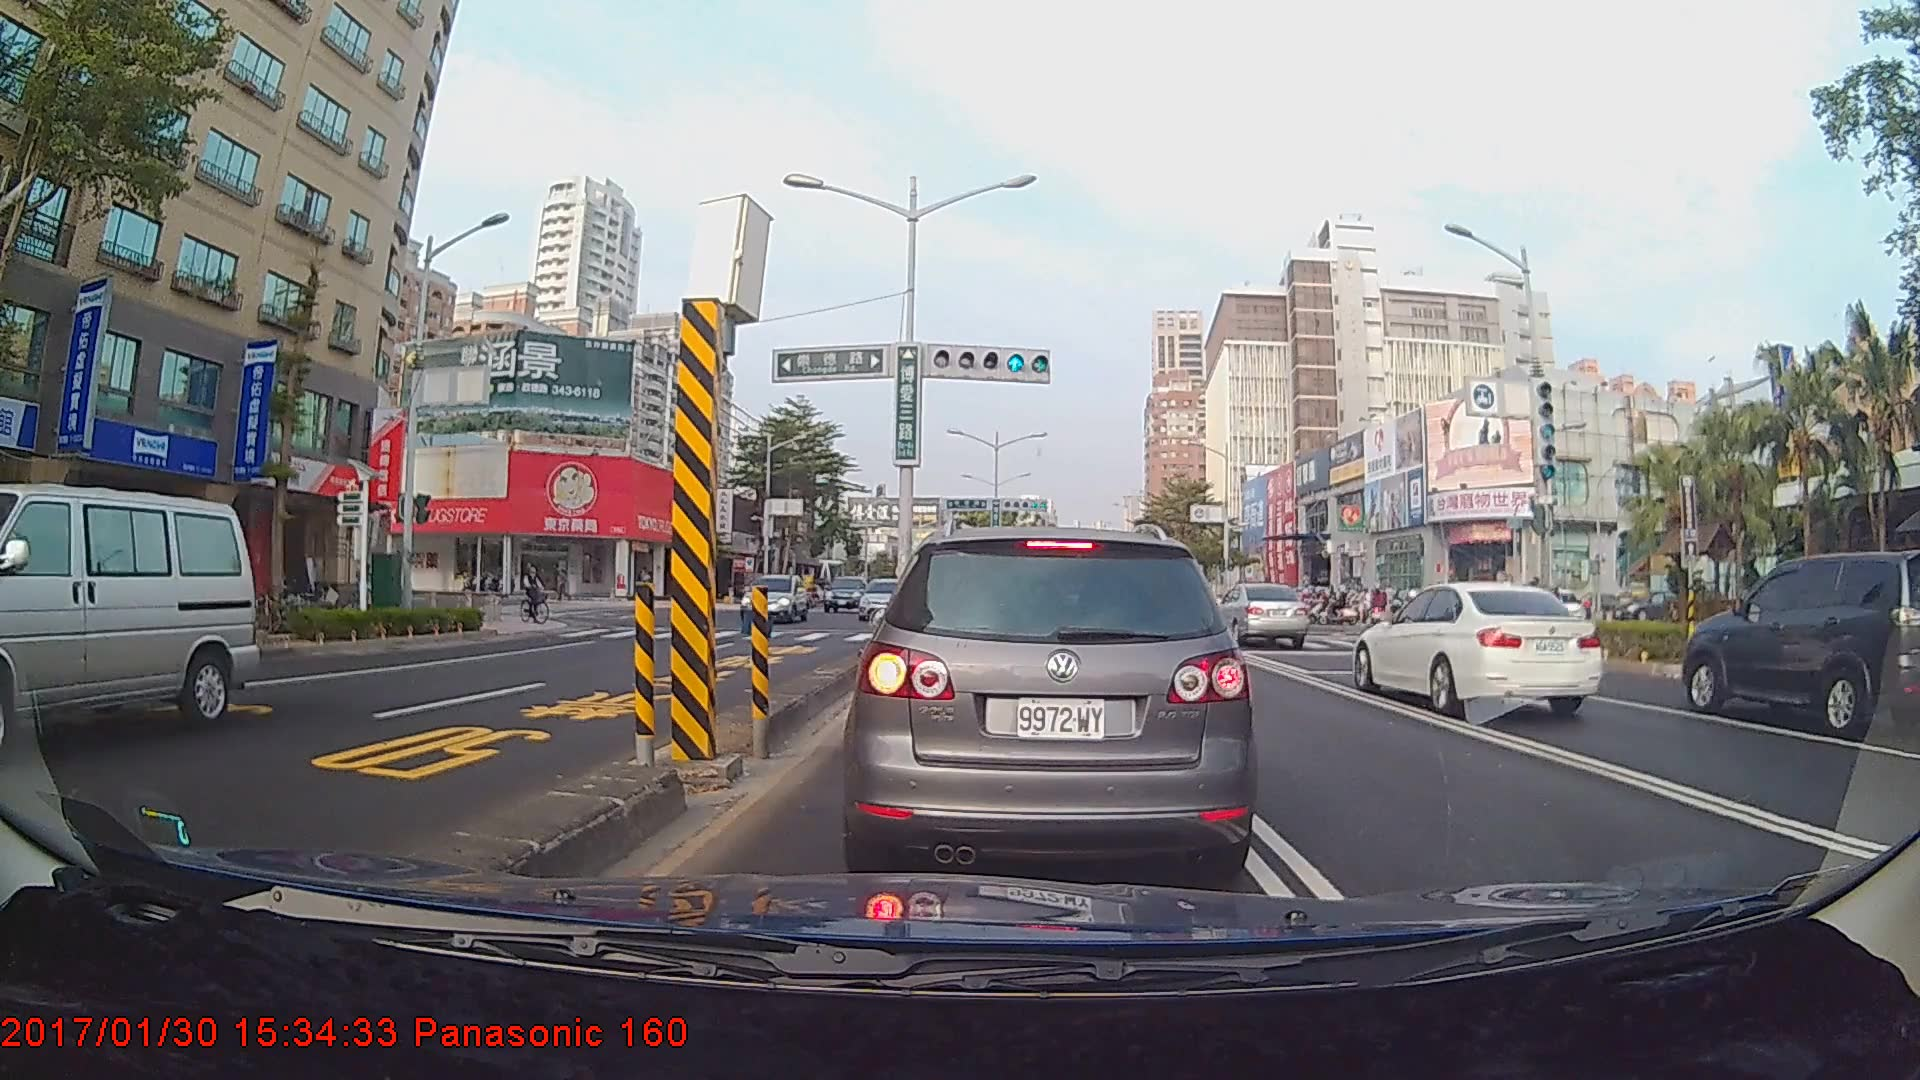rider: (518, 559, 561, 629)
vehicle: (856, 525, 1245, 880), (0, 481, 259, 759), (1682, 552, 1919, 737), (1346, 580, 1604, 719), (1205, 580, 1309, 649), (737, 573, 808, 624), (857, 576, 915, 621), (823, 576, 868, 613)
